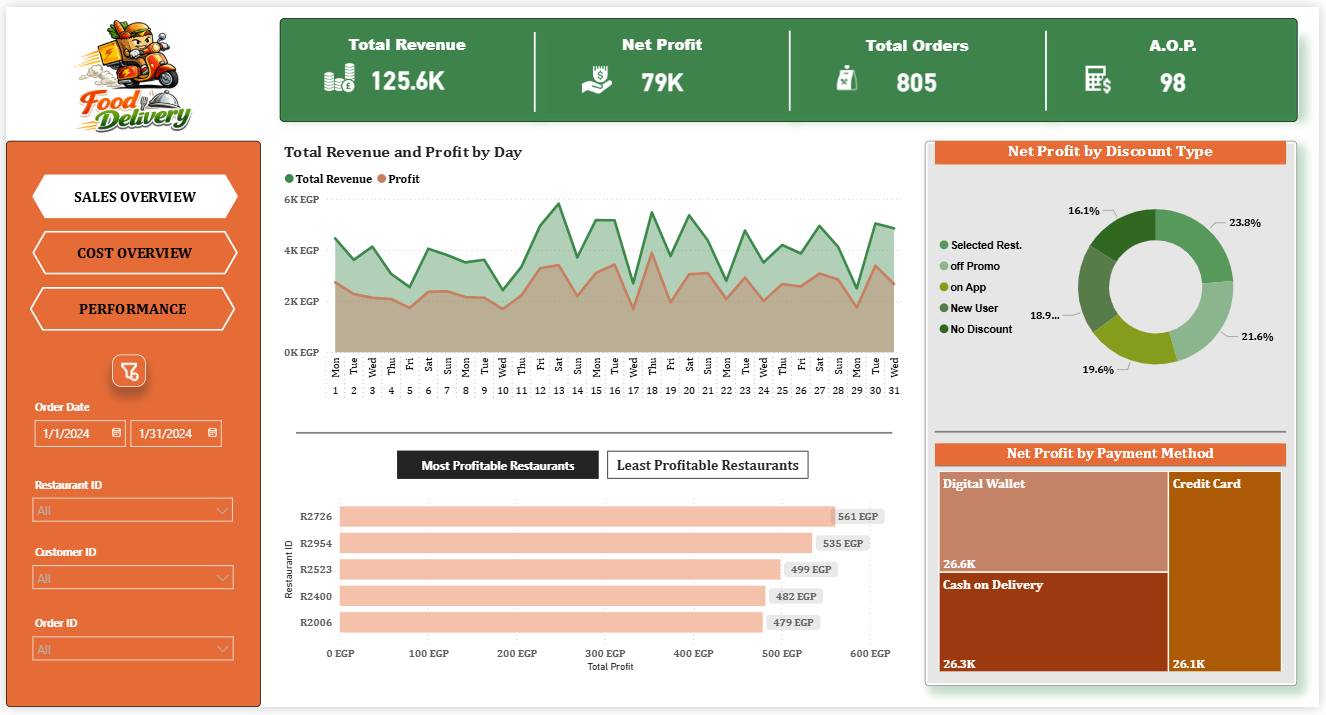

The dashboard page shown, as its layout file describes it:
{"tool":"powerbi","page":{"name":"SALES OVERVIEW","canvas":[1500,800],"ordinal":0},"visuals":[{"type":"image","box":[0,0,291.4,172.9],"z":0},{"type":"shape","box":[313,12.3,1163,118.4],"z":0,"group":"g2"},{"type":"cardVisual","fields":{"Data":["Sum(Food Delivery.Total Revenue)"]},"box":[312.9,27.3,291.4,92.9],"z":0,"group":"g1"},{"type":"shape","box":[1050,152.9,425.7,622.9],"z":0,"group":"g3"},{"type":"group","id":"g1","title":"Group 1","box":[312.9,27.3,1163.8,93.4],"z":1000,"group":"g2"},{"type":"cardVisual","fields":{"Data":["Food Delivery.A.O.P."]},"box":[1189.5,28.3,287.1,92],"z":1000,"group":"g1"},{"type":"shape","box":[0,152.9,291.4,647.1],"z":1000},{"type":"shape","box":[1183.2,26.1,11.4,91.6],"z":2000,"group":"g2"},{"type":"cardVisual","fields":{"Data":["Sum(Food Delivery.Profit)"]},"box":[604.9,28.3,291.5,91.6],"z":2000,"group":"g1"},{"type":"slicer","fields":{"Values":["Food Delivery.Order Date"]},"box":[20.5,444.4,249.5,90],"z":2000},{"type":"shape","box":[890.3,26.1,11.4,91.6],"z":3000,"group":"g2"},{"type":"cardVisual","fields":{"Data":["Count(Food Delivery.Order ID)"]},"box":[895,28.7,294.5,92],"z":3000,"group":"g1"},{"type":"slicer","fields":{"Values":["Food Delivery.Customer ID"]},"box":[20,610,250,77.1],"z":3000},{"type":"shape","box":[598.7,27.4,11.4,91.6],"z":4000,"group":"g2"},{"type":"image","box":[653.7,63.6,42.9,37.9],"z":4000,"group":"g1"},{"type":"image","box":[362,61.7,39.8,34.5],"z":5000,"group":"g1"},{"type":"lineChart","title":"Total Revenue and Profit  by Day","fields":{"Y":["Sum(Food Delivery.Total Revenue)"],"Category":["Date.Day Num","Date.Day Name"],"Y2":["Sum(Food Delivery.Profit)"]},"box":[312.9,154.5,715.7,303.2],"z":5000,"group":"g3"},{"type":"actionButton","box":[121.3,396.7,38.2,36.8],"z":5000},{"type":"image","box":[939.3,62.8,42.9,34.4],"z":6000,"group":"g1"},{"type":"pageNavigator","box":[30,191.1,235.7,50],"z":6000},{"type":"image","box":[1225.2,62.8,38.6,34.4],"z":7000,"group":"g1"},{"type":"donutChart","title":"Net Profit by Discount Type","fields":{"Y":["Sum(Food Delivery.Profit)"],"Category":["Food Delivery.Discount Reason"]},"box":[1061.5,152.9,401.4,304.8],"z":7000,"group":"g3"},{"type":"pageNavigator","box":[30,255.3,235.7,50],"z":7000},{"type":"clusteredBarChart","fields":{"Category":["Food Delivery.Restaurant ID"],"Y":["Sum(Food Delivery.Profit)"]},"box":[312.9,545.1,715.7,219.2],"z":8000,"group":"g3"},{"type":"slicer","fields":{"Values":["Food Delivery.Order ID"]},"box":[20,691.4,250,77.1],"z":8000},{"type":"slicer","fields":{"Values":["Food Delivery.Restaurant ID"]},"box":[20.5,533.1,249.5,76.3],"z":9000},{"type":"pageNavigator","box":[27.1,320,235.7,50],"z":10000},{"type":"bookmarkNavigator","box":[447.2,507.2,470,33],"z":10000,"group":"g3"},{"type":"group","id":"g2","title":"Group 2","box":[312.9,12.3,1163.8,118.4],"z":11000},{"type":"treemap","title":"Net Profit by Payment Method","fields":{"Group":["Food Delivery.Payment Method"],"Values":["Sum(Food Delivery.Profit)"]},"box":[1061.5,498.9,401.4,265.3],"z":11000,"group":"g3"},{"type":"group","id":"g3","title":"Group 3","box":[312.9,152.9,1162.9,622.9],"z":12000},{"type":"shape","box":[1061.5,470.9,401.4,28],"z":12000,"group":"g3"},{"type":"shape","box":[331.5,474.2,681.4,24.7],"z":13000,"group":"g3"}]}

Visuals, with their boxes in screenshot pixels (x1, y1, x2, y2), scaled from the page's 1500x800 canvas onto the 1326x715 screenshot:
image: rect(0, 0, 258, 155)
shape: rect(277, 11, 1305, 117)
cardVisual - Sum(Food Delivery.Total Revenue): rect(277, 24, 534, 107)
shape: rect(928, 137, 1305, 693)
"Group 1" group: rect(277, 24, 1305, 108)
cardVisual - Food Delivery.A.O.P.: rect(1052, 25, 1305, 108)
shape: rect(0, 137, 258, 714)
shape: rect(1046, 23, 1056, 105)
cardVisual - Sum(Food Delivery.Profit): rect(535, 25, 792, 107)
slicer - Food Delivery.Order Date: rect(18, 397, 239, 478)
shape: rect(787, 23, 797, 105)
cardVisual - Count(Food Delivery.Order ID): rect(791, 26, 1052, 108)
slicer - Food Delivery.Customer ID: rect(18, 545, 239, 614)
shape: rect(529, 24, 539, 106)
image: rect(578, 57, 616, 91)
image: rect(320, 55, 355, 86)
"Total Revenue and Profit  by Day" lineChart: rect(277, 138, 909, 409)
actionButton: rect(107, 355, 141, 387)
image: rect(830, 56, 868, 87)
pageNavigator: rect(27, 171, 235, 215)
image: rect(1083, 56, 1117, 87)
"Net Profit by Discount Type" donutChart: rect(938, 137, 1293, 409)
pageNavigator: rect(27, 228, 235, 273)
clusteredBarChart - Food Delivery.Restaurant ID x Sum(Food Delivery.Profit): rect(277, 487, 909, 683)
slicer - Food Delivery.Order ID: rect(18, 618, 239, 687)
slicer - Food Delivery.Restaurant ID: rect(18, 476, 239, 545)
pageNavigator: rect(24, 286, 232, 331)
bookmarkNavigator: rect(395, 453, 811, 483)
"Group 2" group: rect(277, 11, 1305, 117)
"Net Profit by Payment Method" treemap: rect(938, 446, 1293, 683)
"Group 3" group: rect(277, 137, 1305, 693)
shape: rect(938, 421, 1293, 446)
shape: rect(293, 424, 895, 446)
